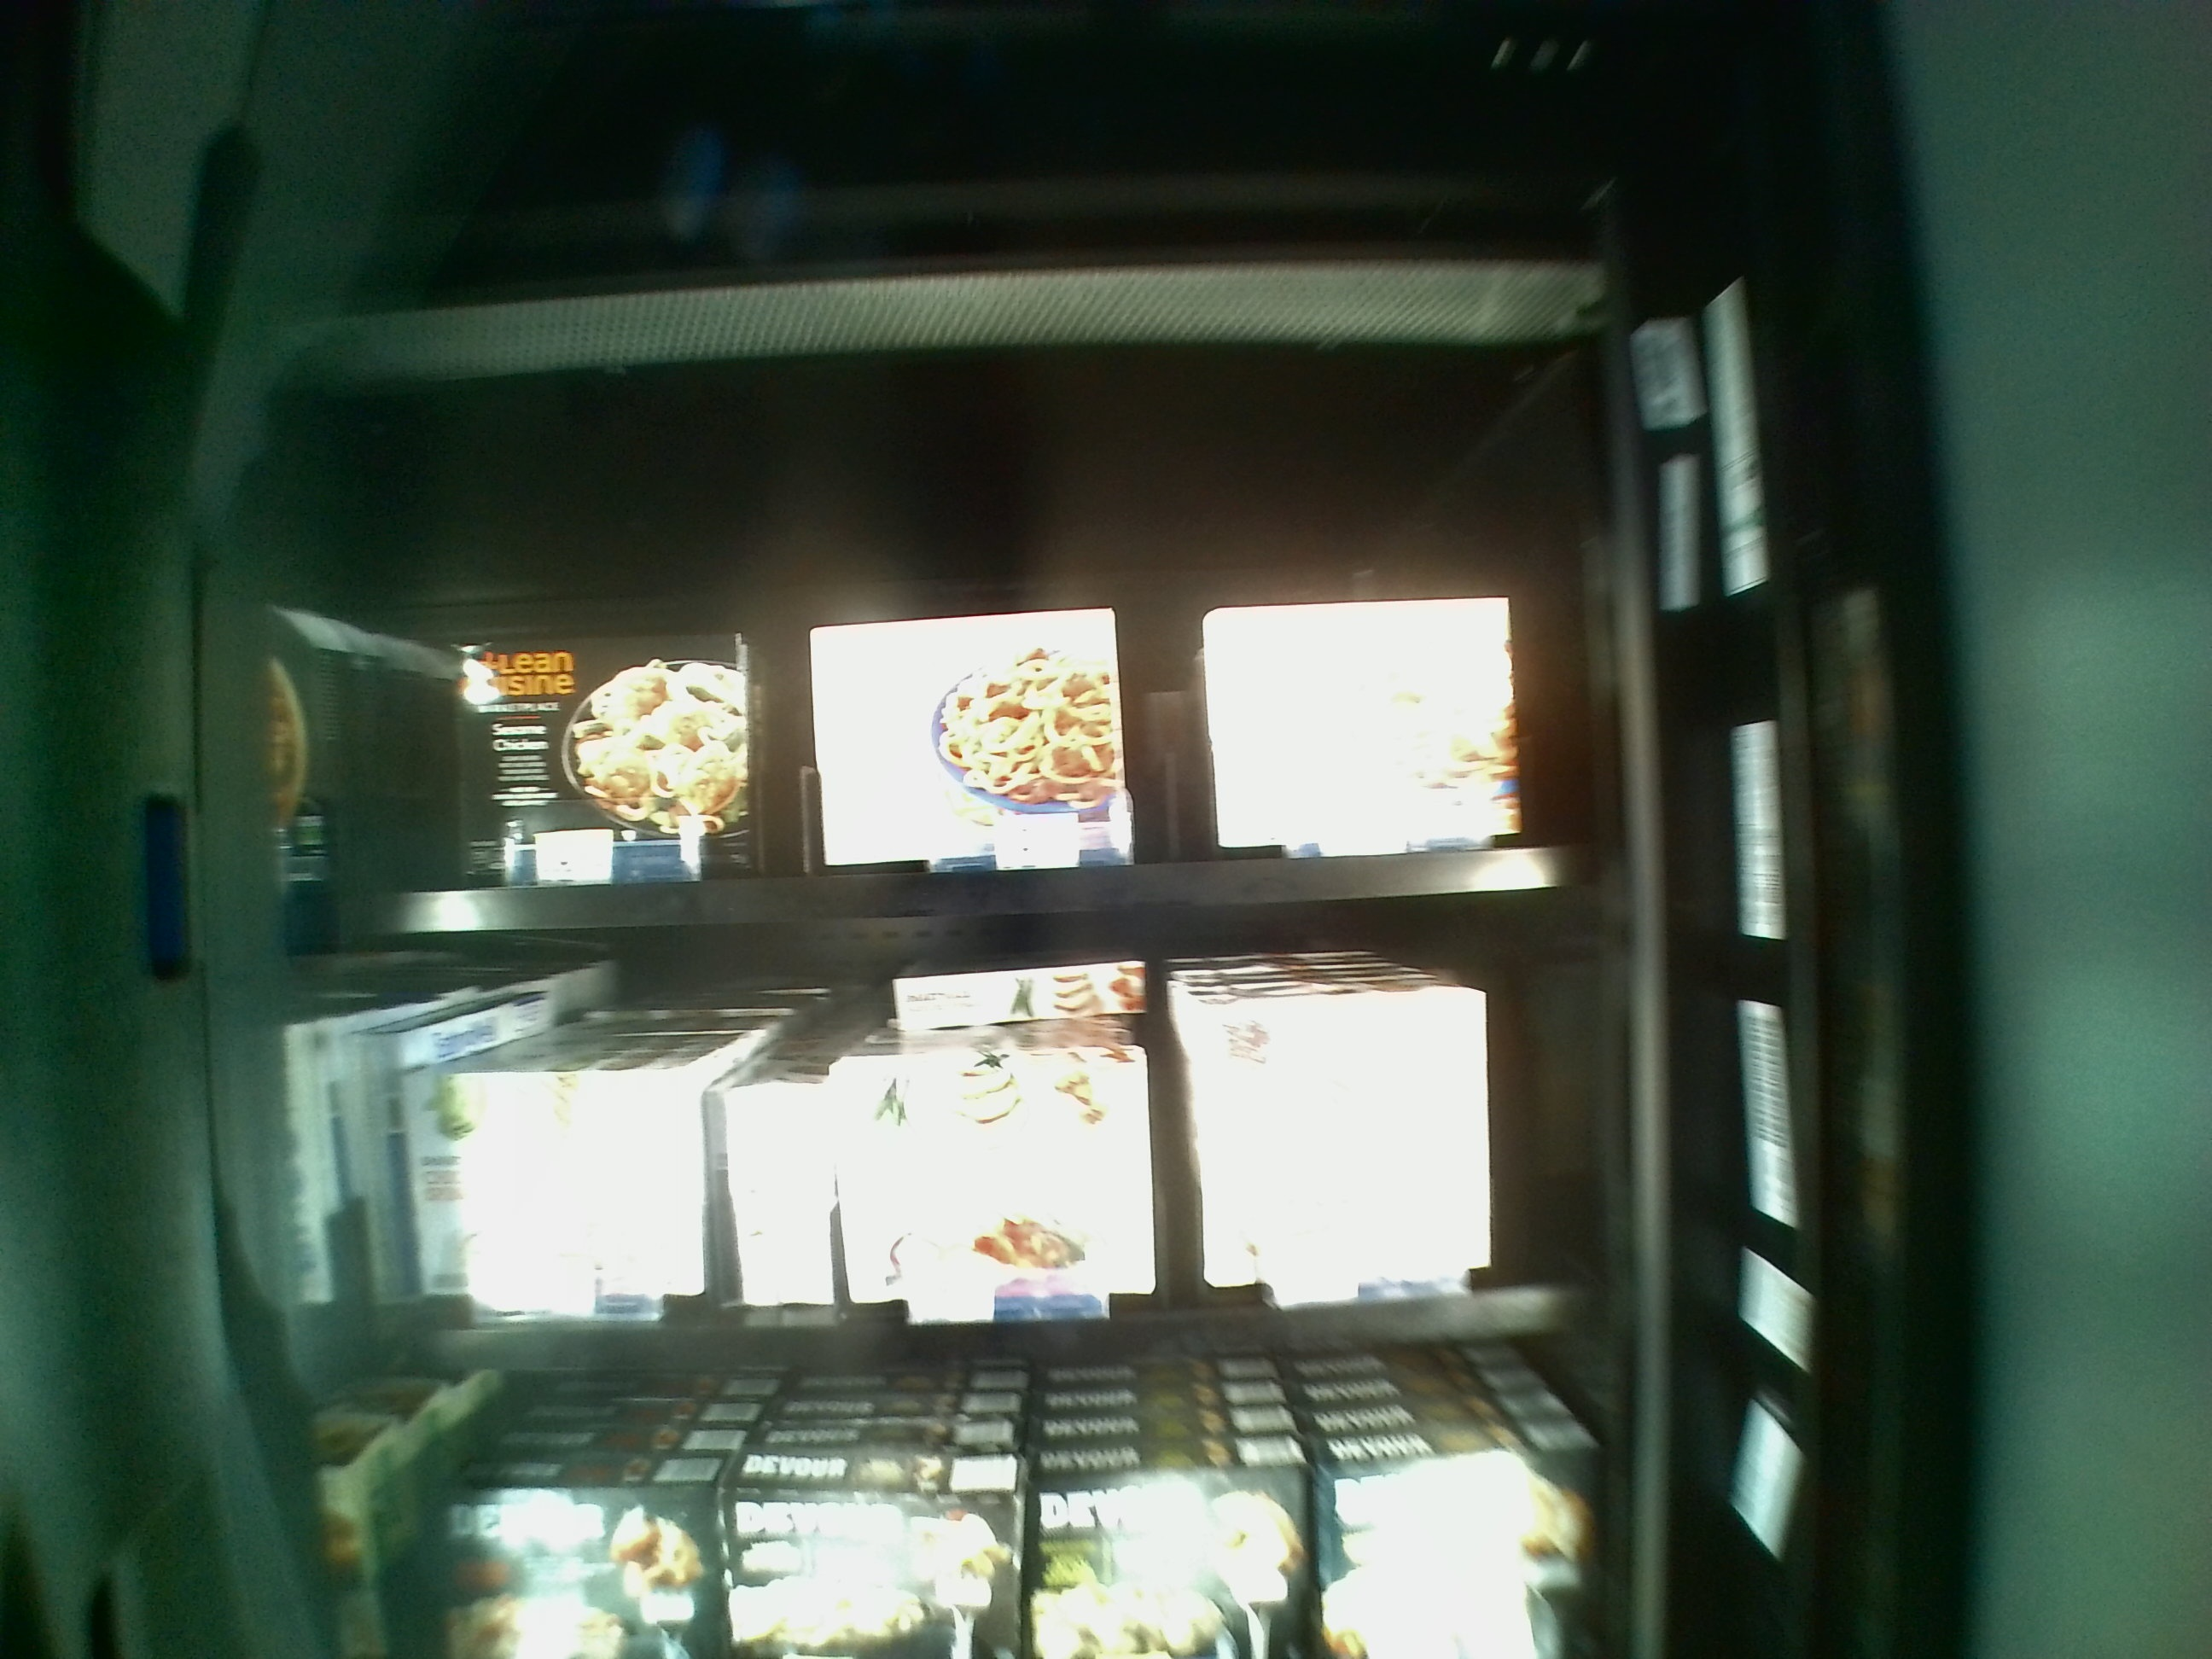shelf: (366, 481, 1623, 927), (369, 953, 1644, 1366)
